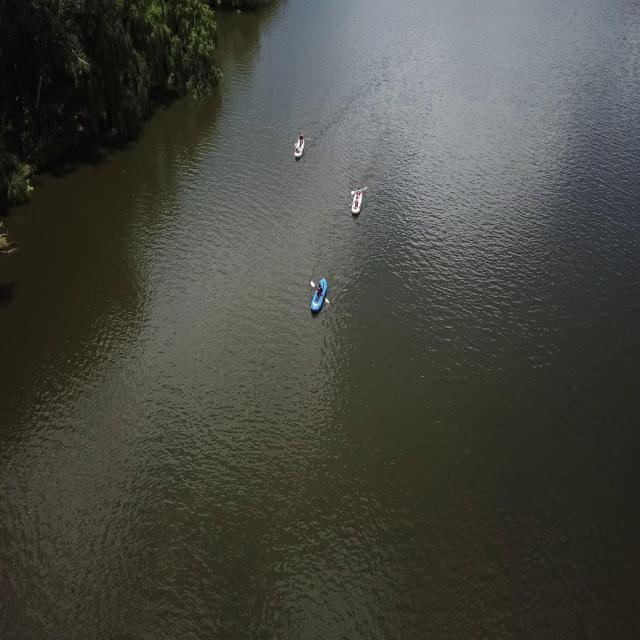kayak: (308, 278, 331, 316), (348, 182, 365, 225), (292, 131, 307, 164)
